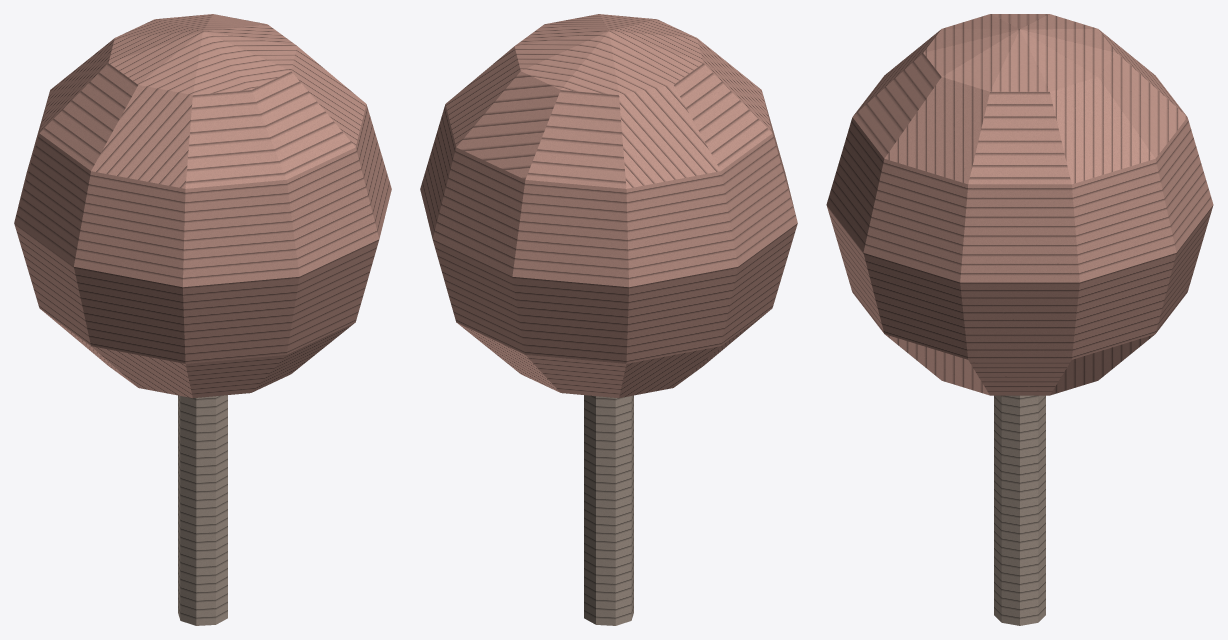
The model's file is tree_oak_mature.glb.
The picture shows the model from 3 angles, left to right: view 1: azimuth 30°, elevation 25°; view 2: azimuth 150°, elevation 25°; view 3: azimuth 270°, elevation 25°; orthographic projection.
Visible parts, largest first — view 1: tree_oak_mature-col; view 2: tree_oak_mature-col; view 3: tree_oak_mature-col.
Part boxes in pixels (box(x1,y1,x2,y2)): tree_oak_mature-col: box(14, 14, 391, 625); tree_oak_mature-col: box(420, 14, 797, 625); tree_oak_mature-col: box(826, 14, 1213, 625).
Bounding box in the file's own units: 4.95 × 8.68 × 5.2.
Materials: 2 (2 with a texture image).
